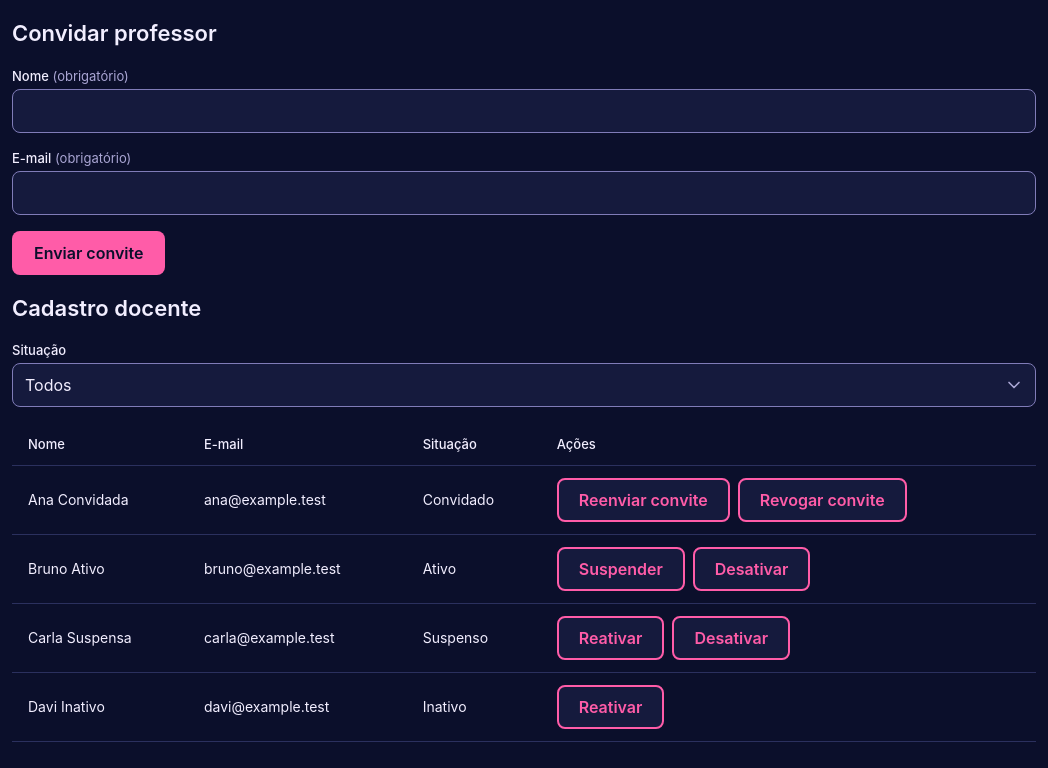
Scenario: 002/US4-2 e 002/US4-3 ações atualizam a lista sem recarregar a página › suspender busca a lista de novo e a linha mostra a nova situação
Click the button with aria-label "Suspender: Bruno Ativo" at [621, 569], box left=557, top=547, right=685, bottom=591
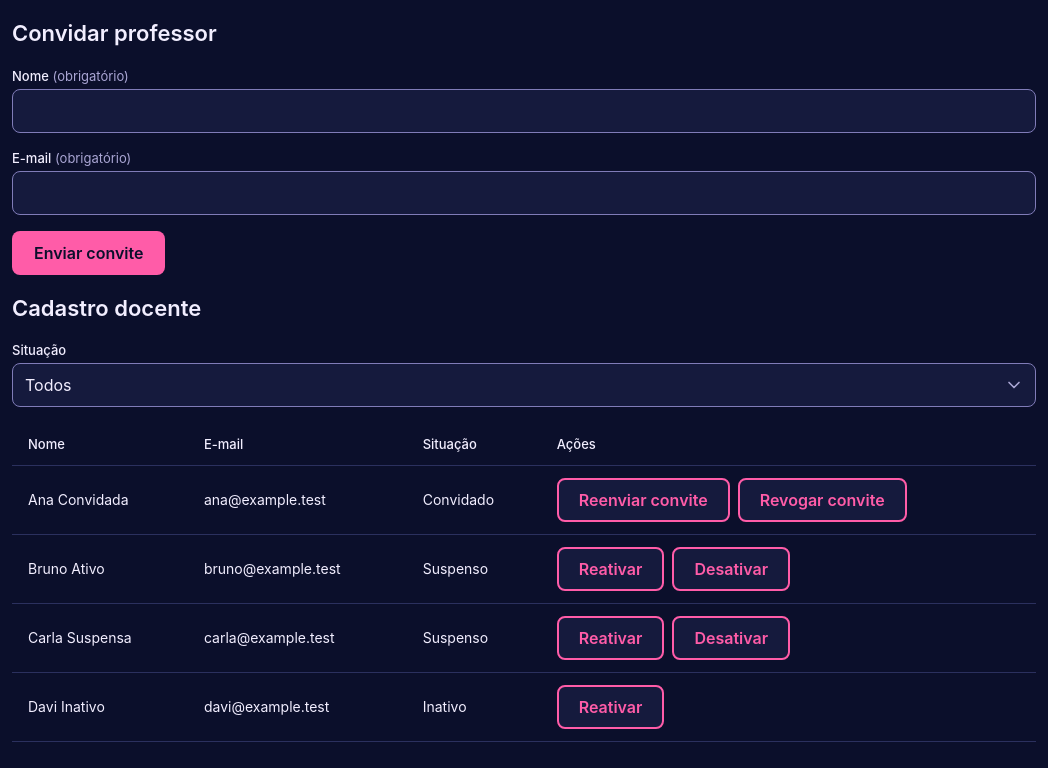
Expected: the text "Suspenso" in the row of "Bruno Ativo" is shown, left=423, top=560, right=488, bottom=577
